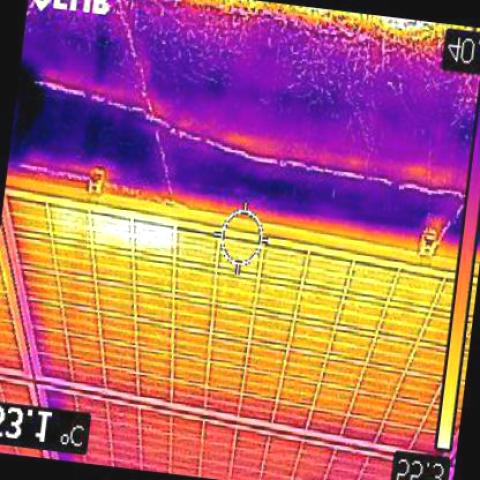fault: (87, 214, 178, 248)
